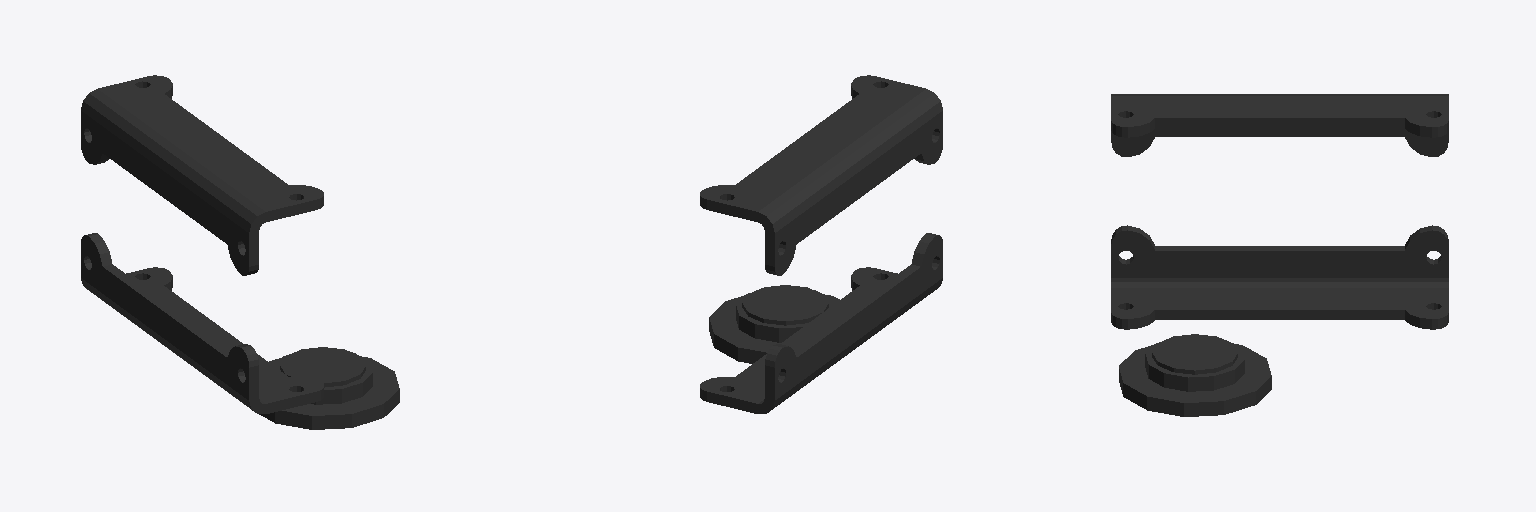
The model's file is arm_v1_1_mesh_4.obj.
3 renders of one model, left to right at view 1: azimuth 30°, elevation 25°; view 2: azimuth 150°, elevation 25°; view 3: azimuth 270°, elevation 25°, orthographic.
Bounding box in the file's own units: 0.0272 × 0.0353 × 0.0436.